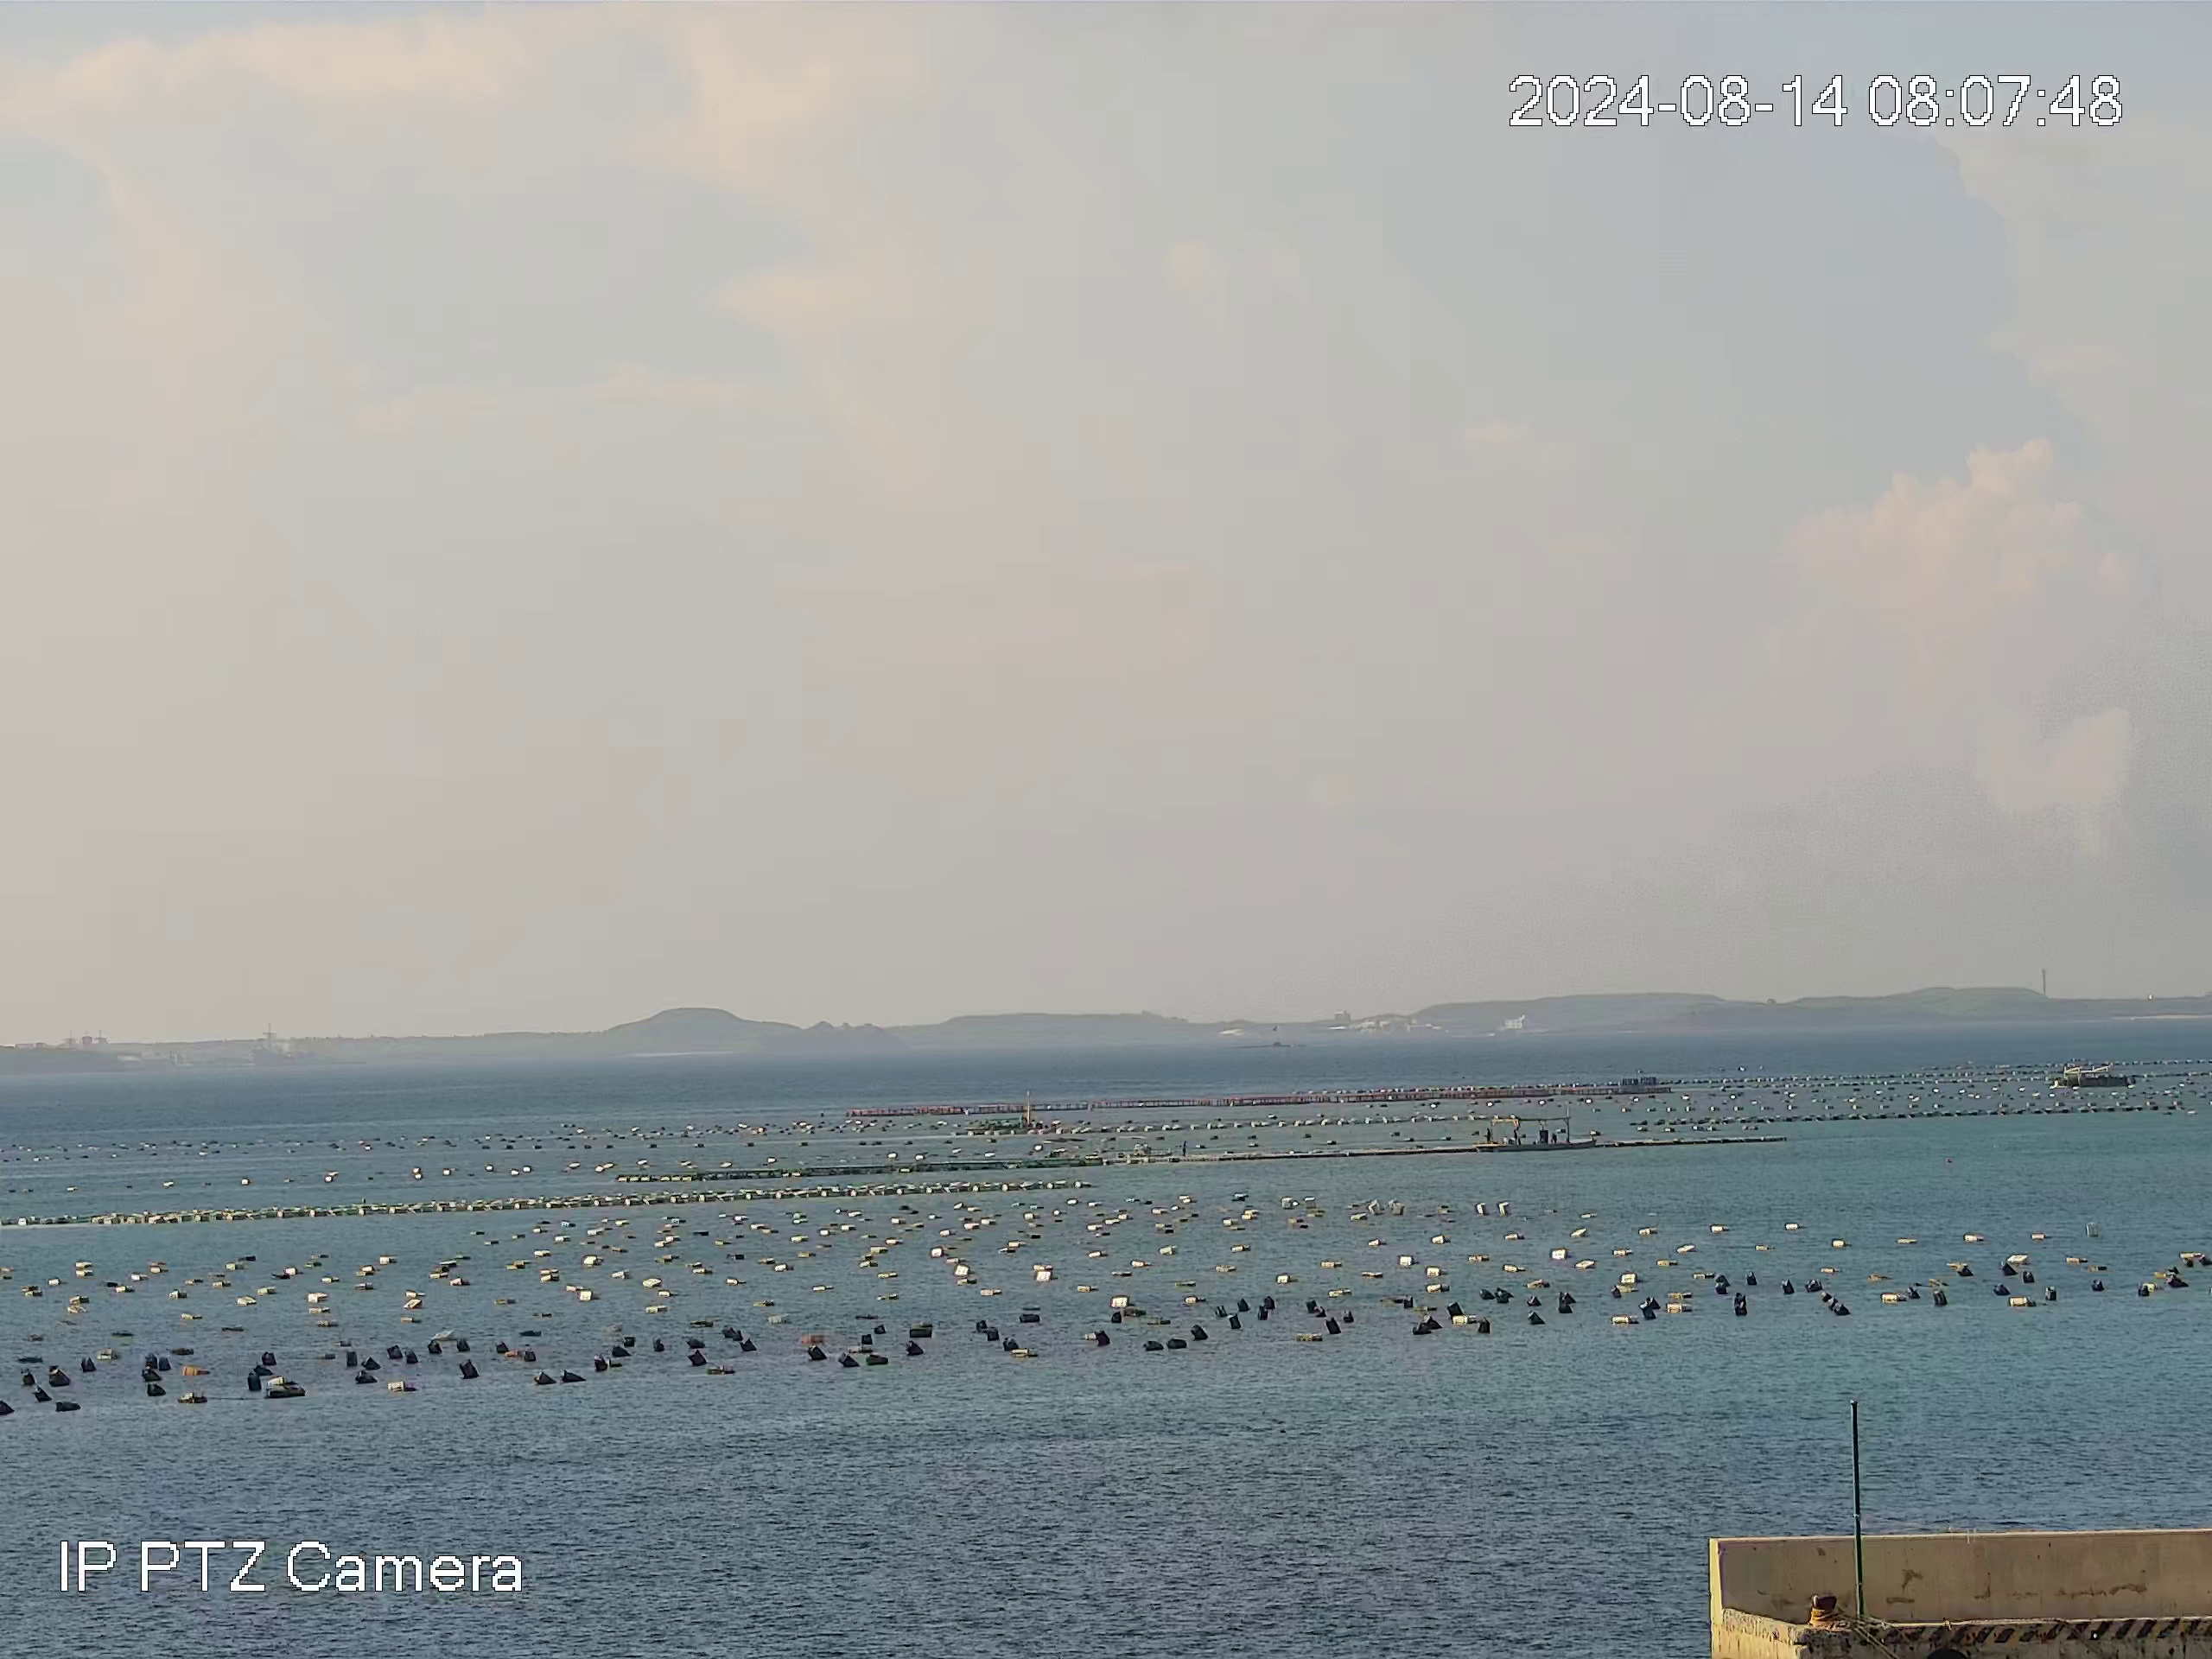boat: (1473, 1106, 1600, 1153), (2052, 1061, 2138, 1090)
